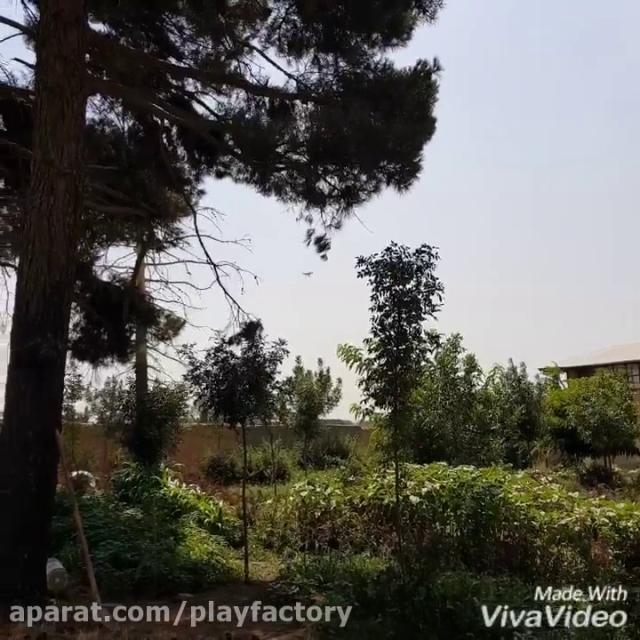drone: (298, 266, 316, 281)
